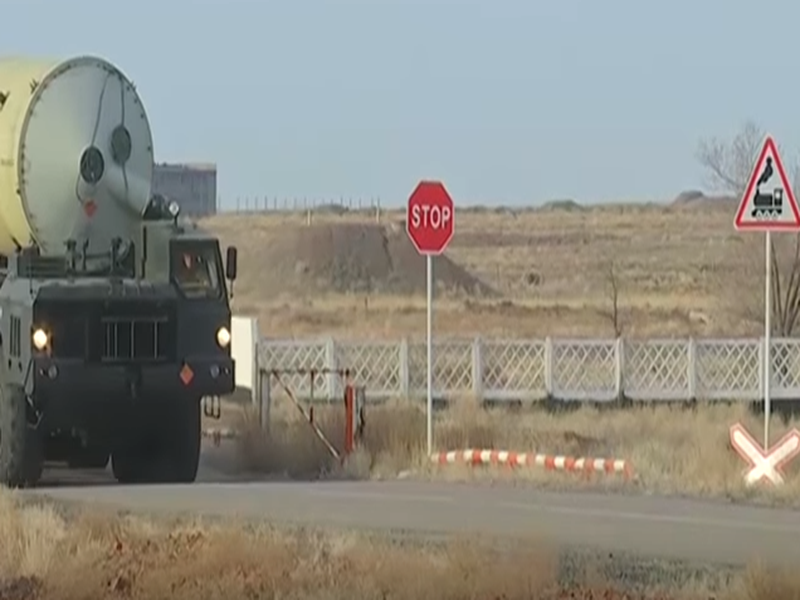stop: (402, 176, 454, 258)
